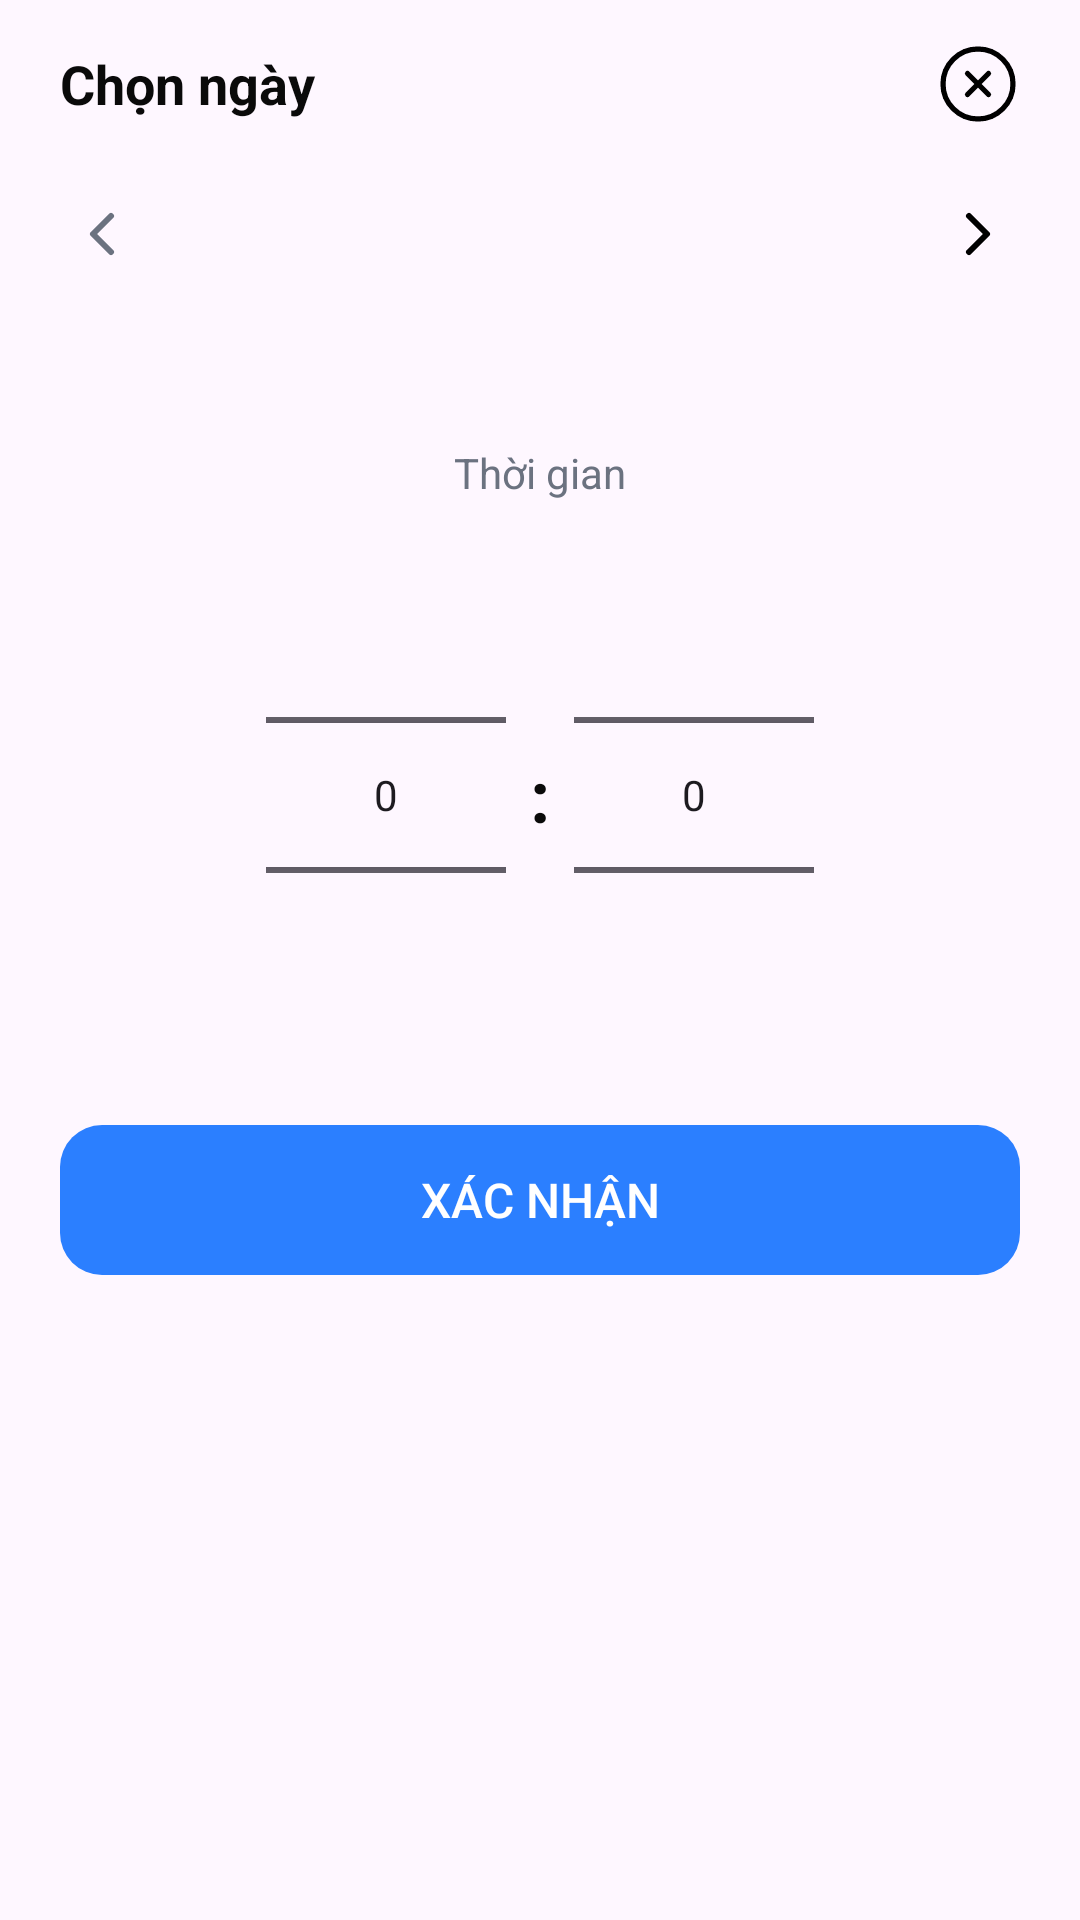

Icon bounding boxes for this 1080px x 1920px phone screenshot, format bbox=(x1, y1, x2, y2):
chevron left: bbox=(90, 213, 114, 255)
chevron right: bbox=(966, 213, 990, 255)
circle: bbox=(940, 46, 1016, 122)
